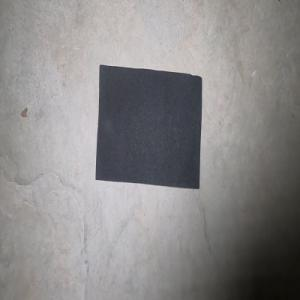PaintChip: (95, 64, 202, 189)
